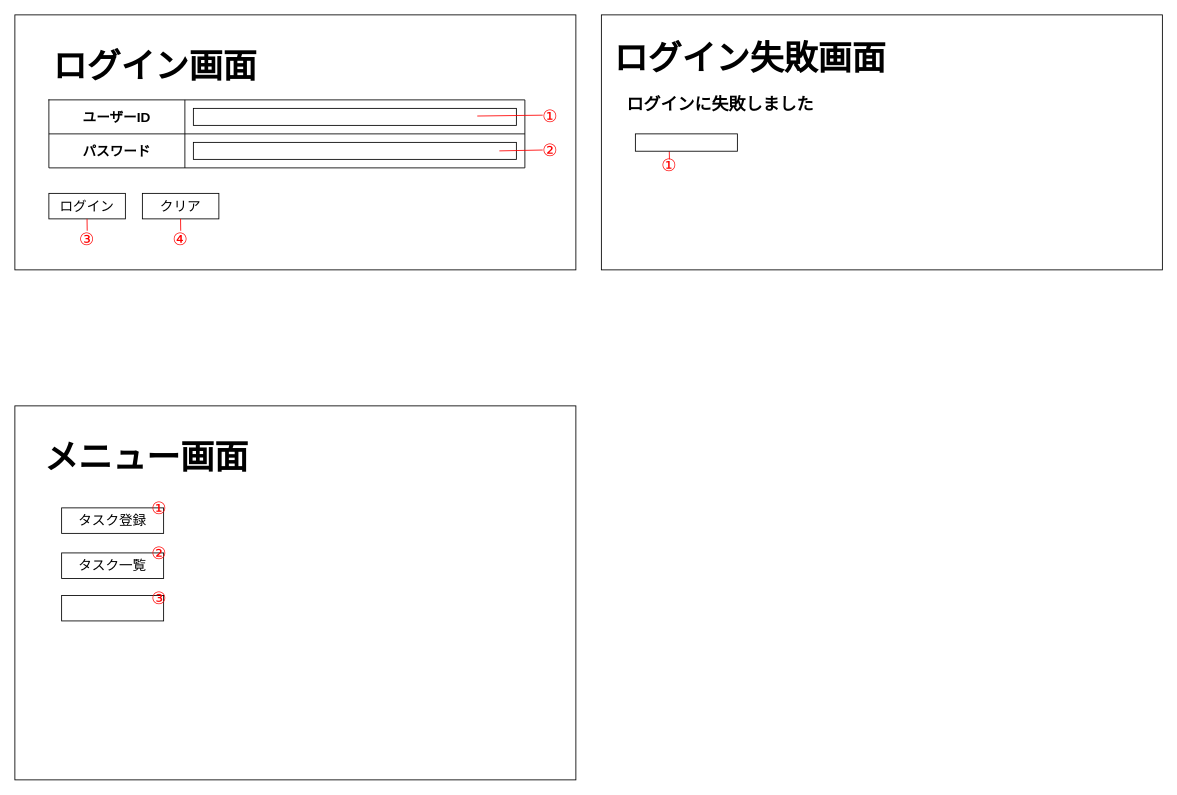
Some shapes in this 1177 by 795 pixel diagram are drawn without their labels. Here are the shapes that lost their labels. From the top down, the box of each, then its label:
(635, 133, 737, 151): ログイン画面へ
(61, 595, 164, 621): ログアウト
